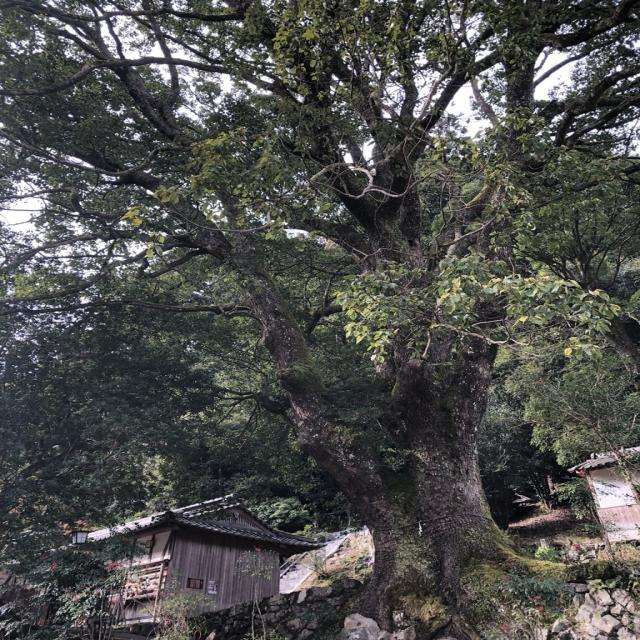camphor: (3, 0, 640, 566)
